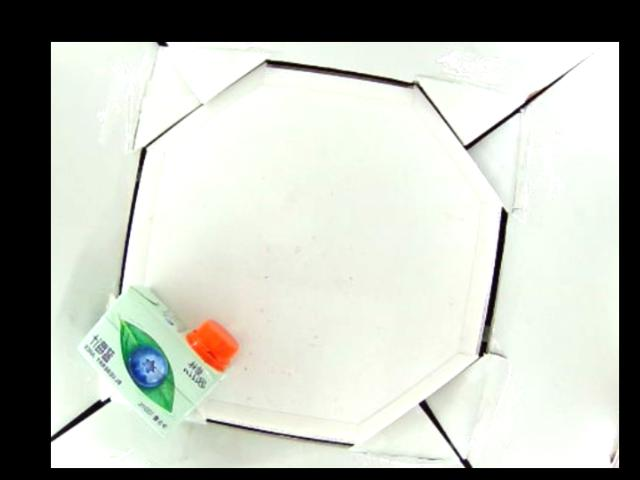Bottle: (80, 285, 233, 423)
